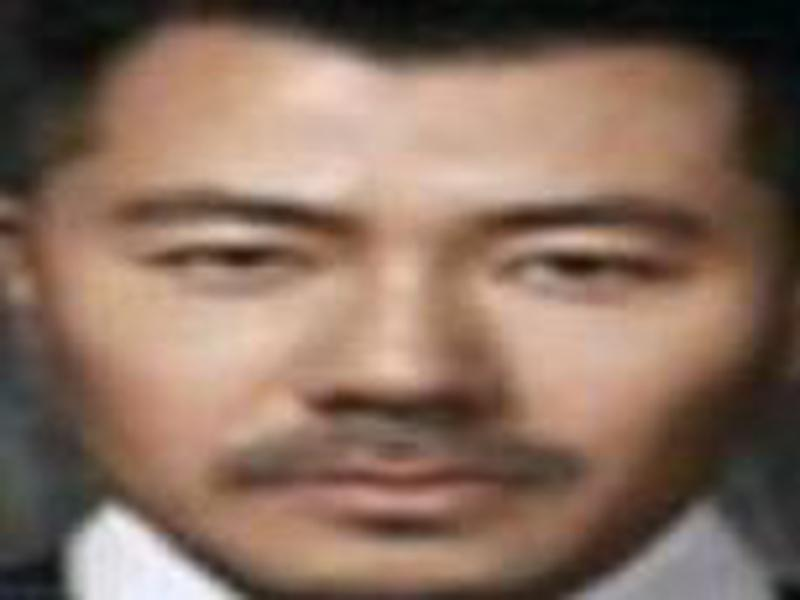without_mask: (74, 23, 755, 600)
